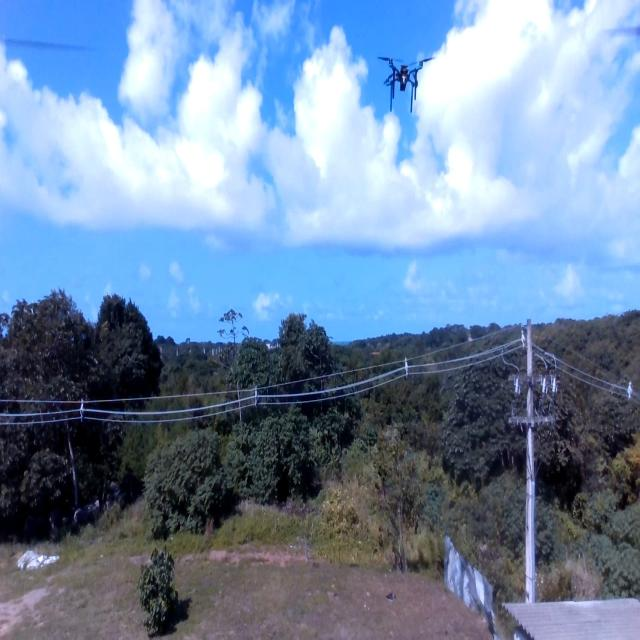-uav-: (362, 34, 438, 132)
